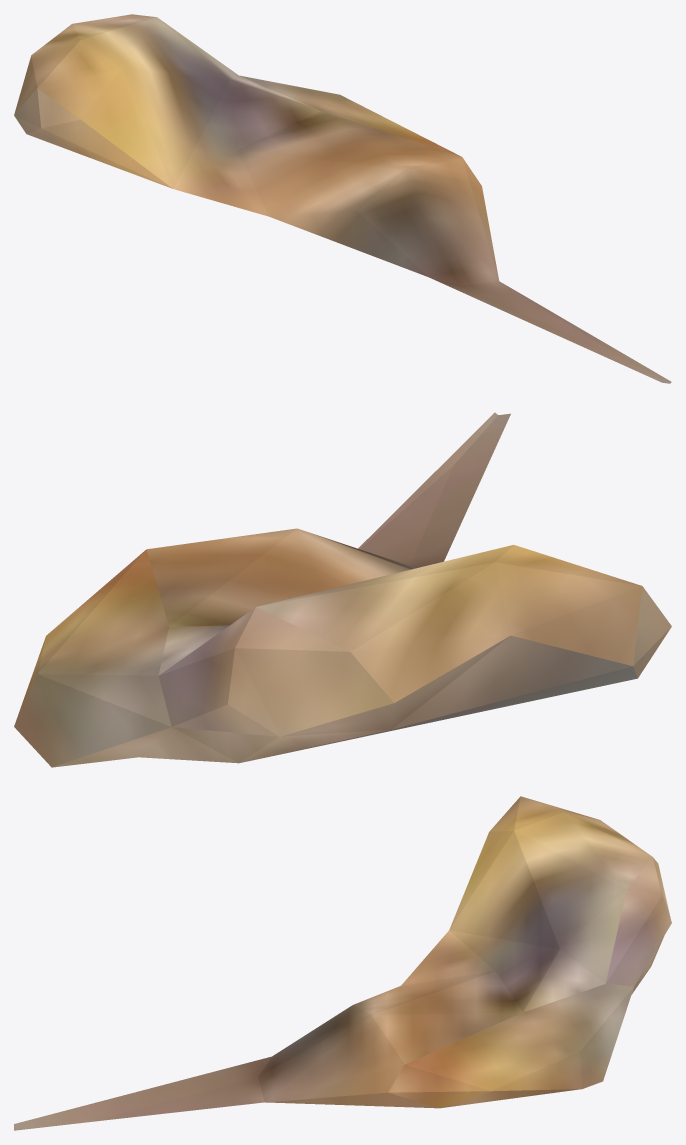
File: Tile__003__007_L22_00051200.glb
3 renders of one model, top to bottom at view 1: azimuth 30°, elevation 25°; view 2: azimuth 150°, elevation 25°; view 3: azimuth 270°, elevation 25°, orthographic. The views are drawn at different scales.
Visible parts, largest first — view 1: root; view 2: root; view 3: root.
Boxes of the visible parts, <box> form: root: <box>14,14,671,383</box>; root: <box>14,412,671,767</box>; root: <box>14,796,671,1130</box>.
Size of the model in its own units: 1 by 0.4938 by 1.59.
1 material, 1 textured.
